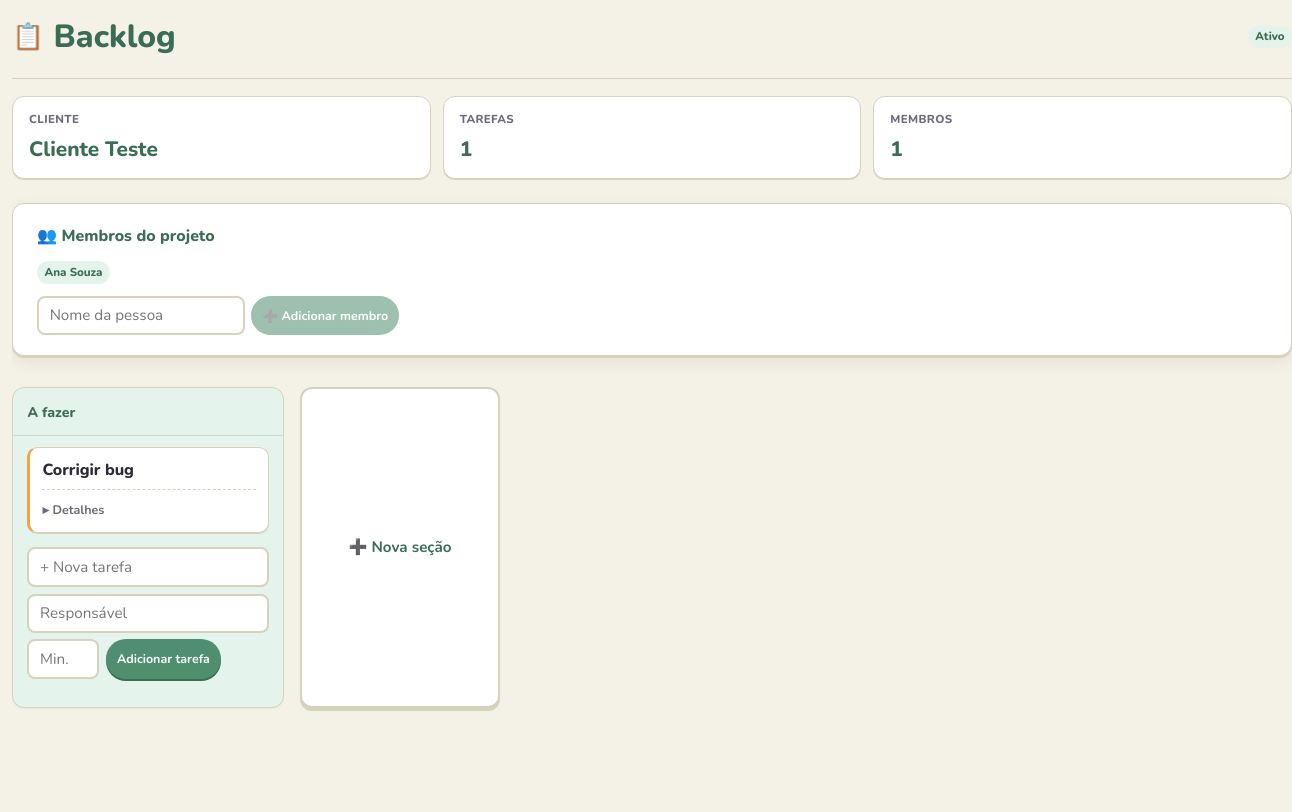
Test: ProjetoDetalhePage › gestor cria uma nova seção (coluna) e ela aparece no board sem reload manual
The image size is (1292, 812).
expect the heading "A fazer" is shown: met, box [27,403,75,422]
Click the button "➕ Nova seção" at x=400, y=547, box [300,387,500,708]
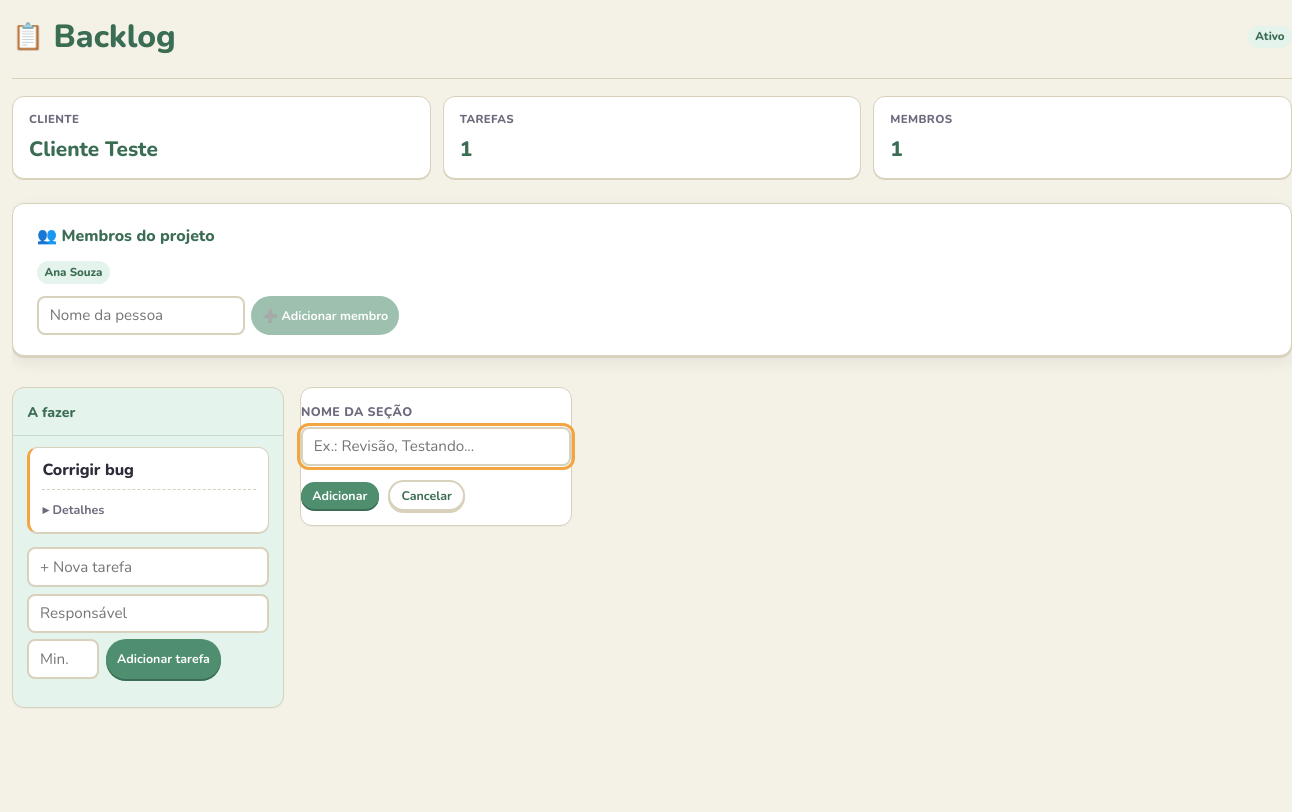
Type "Revisão" into the field labelled "Nome da seção" at x=436, y=446, box [301,427,571,466]
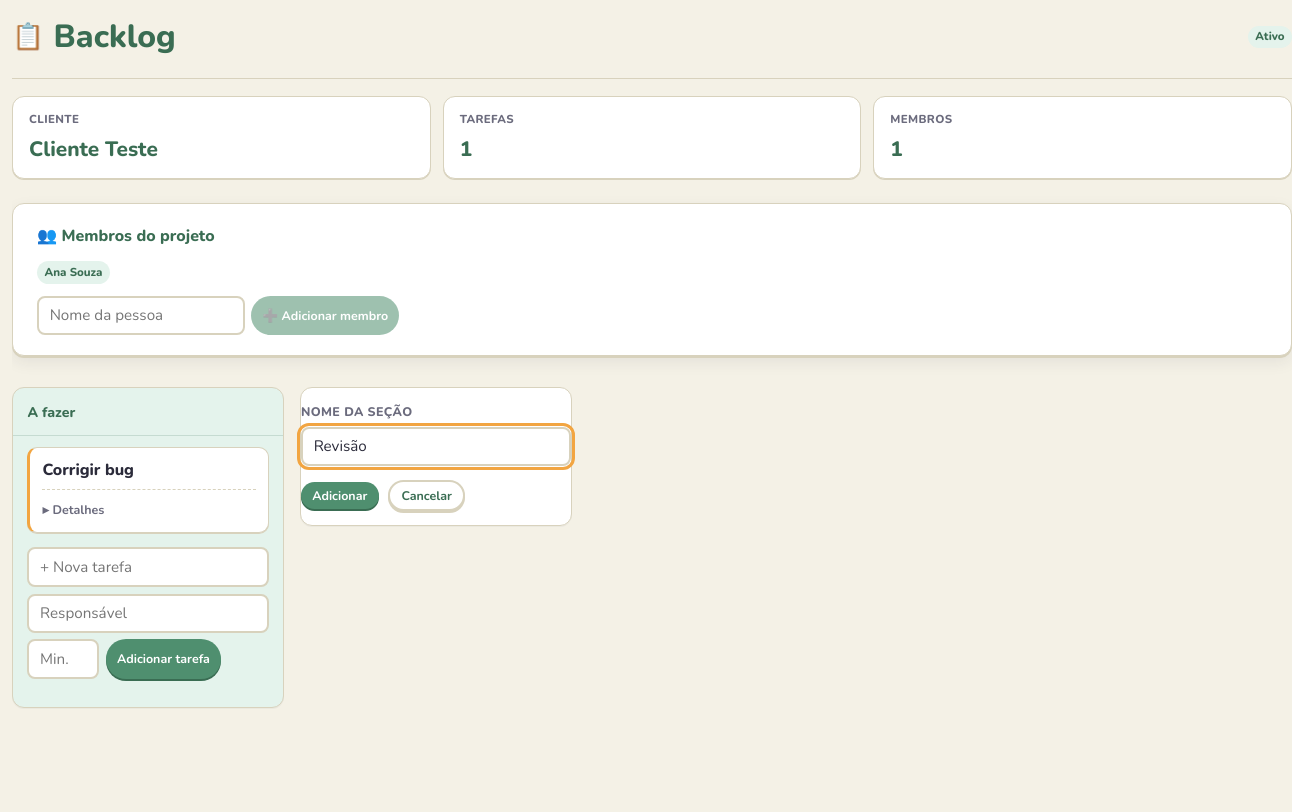
Click the button "Adicionar" at x=340, y=496, box [301,482,379,509]
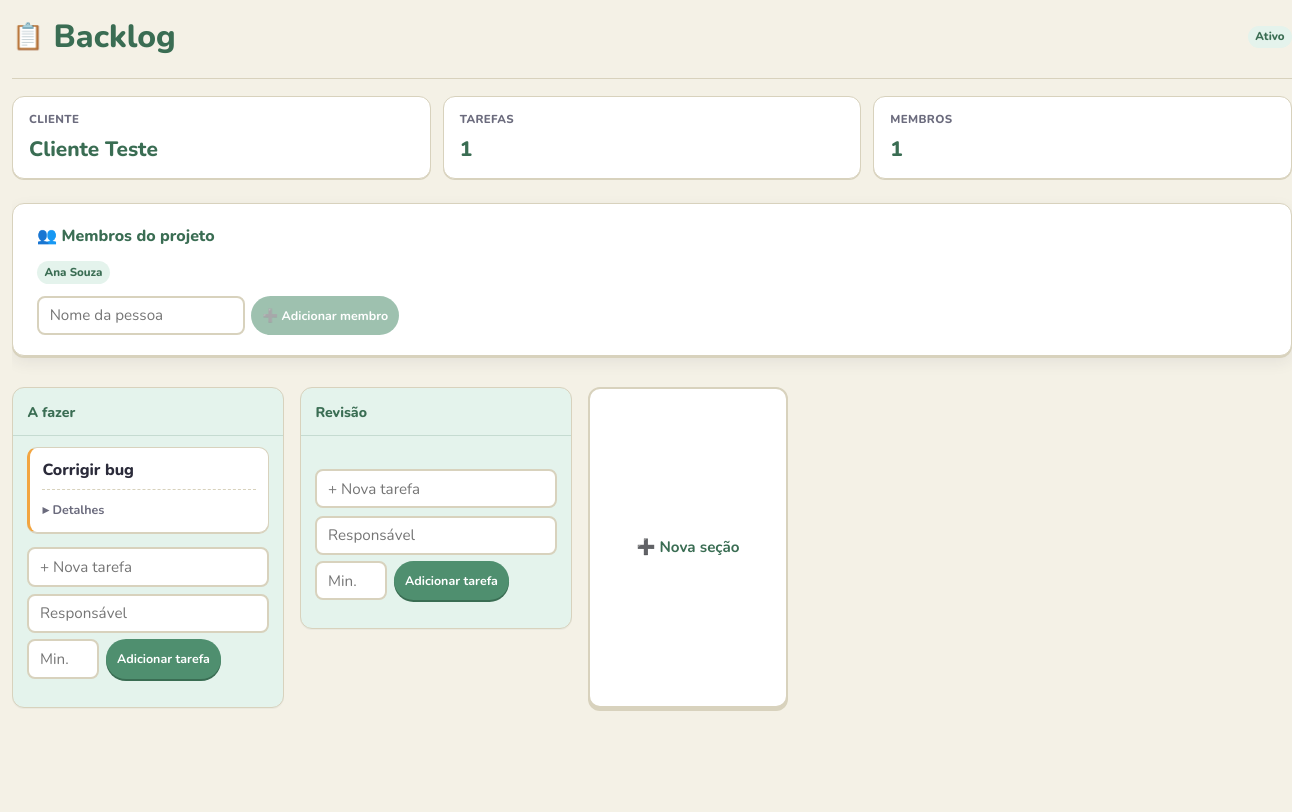
expect the heading "Revisão" is shown: met, box [315,403,367,422]
